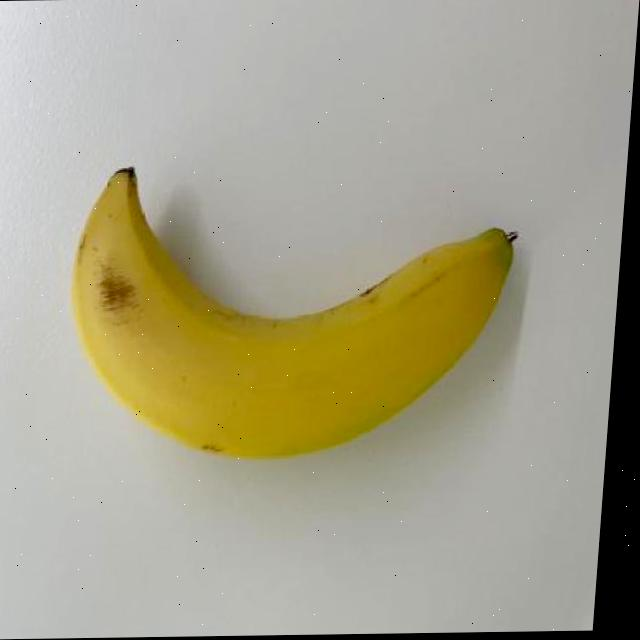banana: (49, 147, 533, 477)
